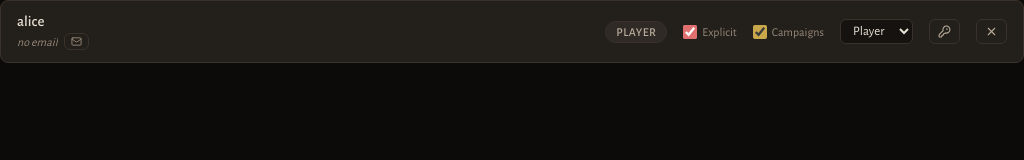
Scenario: UserRow › shows delete confirmation UI when the delete button is clicked
Click the button named "Delete user alice". click: (992, 32)
box: left=976, top=19, right=1007, bottom=44
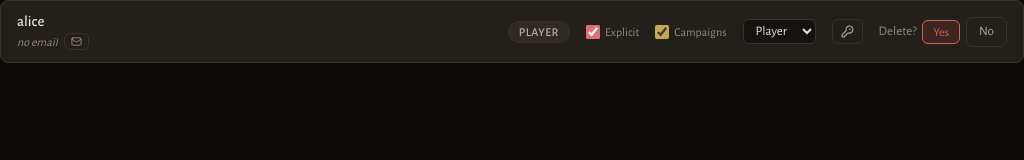
Check: the text "Delete?" is shown, box left=879, top=24, right=916, bottom=40
Check: the button "Yes" is shown, box left=922, top=20, right=960, bottom=44
Check: the button "No" is shown, box left=966, top=16, right=1007, bottom=46
